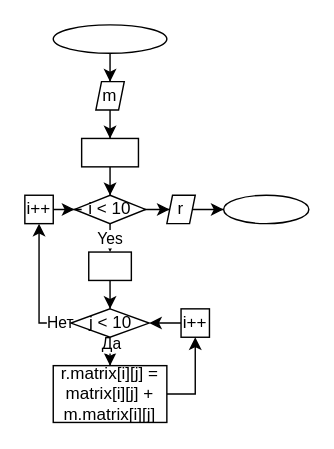
Image size: 334x449. Some labels were removed from this diagram. The shapes that lost their labels are listed below. From the top down, each one's centre as x and y in pixels, then its label:
At [109,38]: "Начало".
At [109,152]: "r, i = 0".
At [265,209]: "Конец".
At [109,265]: "j = 0".
